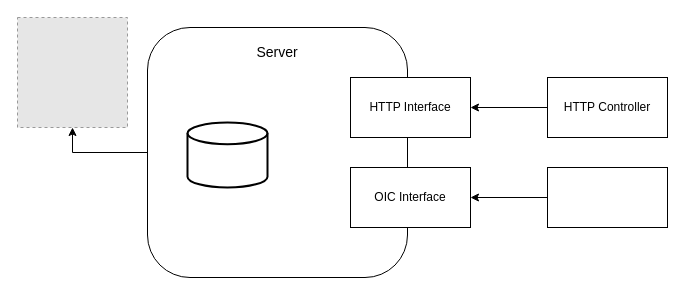
The diagram is 685 pixels wide and 295 high, and some of its shapes have lost their labels. Grey dashed boxes stand in for pictures. Each missing label, with the centre of its shape:
"OIC Controller" goes at point (607, 197).
"Persistence" goes at point (227, 154).
